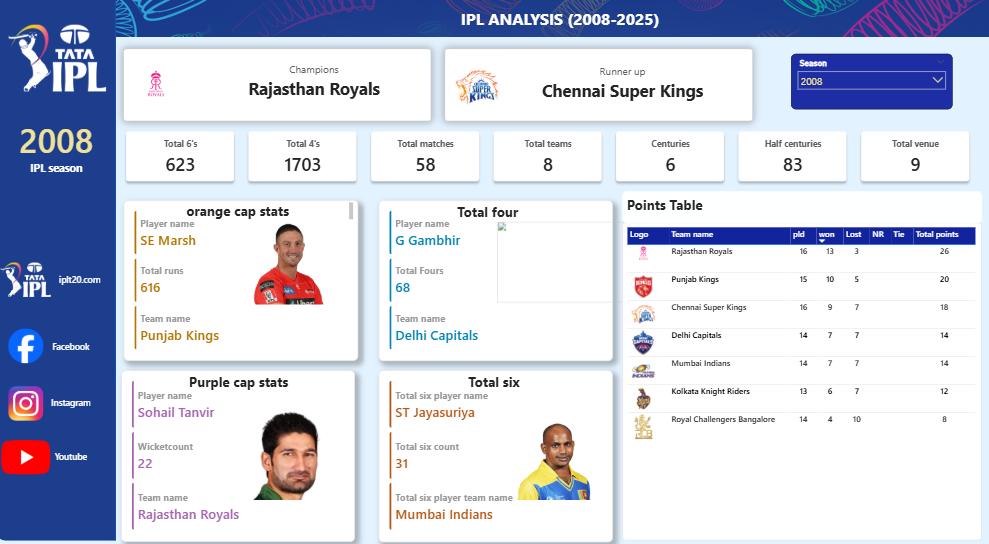

The page's visual inventory and layout, read from the dashboard file:
{"tool":"powerbi","page":{"name":"Page 1","canvas":[1990,1100],"ordinal":0},"visuals":[{"type":"cardVisual","fields":{"Data":["ipl_matches_data.Purple Cap Holder","ipl_matches_data.Purple cap Wicketcount","ipl_matches_data.Purple Cap team"]},"box":[251.2,751.2,468.3,343.9],"z":0},{"type":"image","box":[240.4,0,1746.2,90.4],"z":1000},{"type":"shape","box":[0,5.8,240,1086.5],"z":2000},{"type":"textbox","box":[253.8,19.2,1746.2,71.2],"z":3000},{"type":"slicer","fields":{"Values":["ipl_matches_data.season"]},"box":[1590.4,117.3,323.1,111.5],"z":4000},{"type":"shape","box":[255,107.5,615,145],"z":5000},{"type":"cardVisual","fields":{"Data":["ipl_matches_data.Season winner"]},"box":[374.2,90.3,522.6,162.9],"z":6000},{"type":"cardVisual","fields":{"Data":["ipl_matches_data.Season winner logo"]},"box":[254.8,74.2,130.6,203.2],"z":7000},{"type":"shape","box":[896.8,108.1,616.1,145.2],"z":8000},{"type":"cardVisual","fields":{"Data":["ipl_matches_data.Runner up"]},"box":[1000,96.8,506.5,156.5],"z":9000},{"type":"cardVisual","fields":{"Data":["ipl_matches_data.Runner up logo"]},"box":[896.8,90.3,130.6,187.1],"z":10000},{"type":"cardVisual","fields":{"Data":["ipl_matches_data.Total 6's","ipl_matches_data.Total 4's","ipl_matches_data.Total matches","ipl_matches_data.total venue","ipl_matches_data.Centuries","ipl_matches_data.Half centuries","ipl_matches_data.Total venue"]},"box":[240,253.3,1731.1,140],"z":11000},{"type":"cardVisual","fields":{"Data":["ipl_matches_data.Orange Cap Holder","ipl_matches_data.Orange cap runs","ipl_matches_data.Orange cap team"]},"box":[254.3,410.9,469.6,321.7],"z":12000},{"type":"textbox","box":[255.6,411.1,464.4,44.4],"z":13000},{"type":"cardVisual","fields":{"Data":["ipl_matches_data.Orange cap image"]},"box":[431.1,264.4,333.3,371.1],"z":14000},{"type":"cardVisual","fields":{"Data":["ipl_matches_data.Total Fours player name","ipl_matches_data.Total Fours count","ipl_matches_data.Total four player team name"]},"box":[764.4,411.1,468.9,322.2],"z":15000},{"type":"cardVisual","fields":{"Data":["ipl_matches_data.Total six player name","ipl_matches_data.Total six count","ipl_matches_data.Total six player team name"]},"box":[764.4,751.1,468.9,344.4],"z":16000},{"type":"cardVisual","fields":{"Data":["ipl_matches_data.Total Fours player image"]},"box":[984.4,275.6,335.6,357.8],"z":17000},{"type":"textbox","box":[842.2,411.1,282.2,57.8],"z":18000},{"type":"cardVisual","fields":{"Data":["ipl_matches_data.Total six player image"]},"box":[946.7,668.9,335.6,357.8],"z":19000},{"type":"textbox","box":[744.4,751.1,502.2,55.6],"z":20000},{"type":"tableEx","fields":{"Values":["teams_data.image_url","teams_data.team_name","ipl_matches_data.Matches played","ipl_matches_data.Matches won","ipl_matches_data.Matches lost","ipl_matches_data.No result match","ipl_matches_data.Tie played","ipl_matches_data.Total points"]},"box":[1252.4,454.8,719,635.7],"z":21000},{"type":"textbox","box":[1252.4,392.9,719,64.3],"z":22000},{"type":"image","box":[23.8,21.4,195.2,207.1],"z":23000},{"type":"card","fields":{"Values":["ipl_matches_data.IPL season"]},"box":[11.9,209.5,216.7,183.3],"z":24000},{"type":"actionButton","box":[61.9,538.1,209.5,64.3],"z":25000},{"type":"image","box":[0,535.7,119,69],"z":26000},{"type":"actionButton","box":[45.2,783.3,209.5,64.3],"z":27000},{"type":"actionButton","box":[45.2,669,209.5,64.3],"z":28000},{"type":"actionButton","box":[45.2,890.5,209.5,64.3],"z":29000},{"type":"image","box":[0,666.7,119,69],"z":30000},{"type":"image","box":[0,783.3,119,69],"z":31000},{"type":"image","box":[0,890.5,119,69],"z":32000},{"type":"cardVisual","fields":{"Data":["ipl_matches_data.Purple Capimage"]},"box":[431.7,634.1,312.2,392.7],"z":33000},{"type":"textbox","box":[297.6,748.8,375.6,58.5],"z":34000}]}

Visuals, with their boxes in screenshot pixels (x1, y1, x2, y2), scaled from the page's 1990x1100 canvas onto the 989x544 screenshot:
cardVisual - ipl_matches_data.Purple Cap Holder x ipl_matches_data.Purple cap Wicketcount: left=125, top=372, right=358, bottom=542
image: left=119, top=0, right=987, bottom=45
shape: left=0, top=3, right=119, bottom=540
textbox: left=126, top=9, right=988, bottom=45
slicer - ipl_matches_data.season: left=790, top=58, right=951, bottom=113
shape: left=127, top=53, right=432, bottom=125
cardVisual - ipl_matches_data.Season winner: left=186, top=45, right=446, bottom=125
cardVisual - ipl_matches_data.Season winner logo: left=127, top=37, right=192, bottom=137
shape: left=446, top=53, right=752, bottom=125
cardVisual - ipl_matches_data.Runner up: left=497, top=48, right=749, bottom=125
cardVisual - ipl_matches_data.Runner up logo: left=446, top=45, right=511, bottom=137
cardVisual - ipl_matches_data.Total 6's x ipl_matches_data.Total 4's: left=119, top=125, right=980, bottom=195
cardVisual - ipl_matches_data.Orange Cap Holder x ipl_matches_data.Orange cap runs: left=126, top=203, right=360, bottom=362
textbox: left=127, top=203, right=358, bottom=225
cardVisual - ipl_matches_data.Orange cap image: left=214, top=131, right=380, bottom=314
cardVisual - ipl_matches_data.Total Fours player name x ipl_matches_data.Total Fours count: left=380, top=203, right=613, bottom=363
cardVisual - ipl_matches_data.Total six player name x ipl_matches_data.Total six count: left=380, top=371, right=613, bottom=542
cardVisual - ipl_matches_data.Total Fours player image: left=489, top=136, right=656, bottom=313
textbox: left=419, top=203, right=559, bottom=232
cardVisual - ipl_matches_data.Total six player image: left=470, top=331, right=637, bottom=508
textbox: left=370, top=371, right=620, bottom=399
tableEx - teams_data.image_url x teams_data.team_name: left=622, top=225, right=980, bottom=539
textbox: left=622, top=194, right=980, bottom=226
image: left=12, top=11, right=109, bottom=113
card - ipl_matches_data.IPL season: left=6, top=104, right=114, bottom=194
actionButton: left=31, top=266, right=135, bottom=298
image: left=0, top=265, right=59, bottom=299
actionButton: left=22, top=387, right=127, bottom=419
actionButton: left=22, top=331, right=127, bottom=363
actionButton: left=22, top=440, right=127, bottom=472
image: left=0, top=330, right=59, bottom=364
image: left=0, top=387, right=59, bottom=422
image: left=0, top=440, right=59, bottom=475
cardVisual - ipl_matches_data.Purple Capimage: left=215, top=314, right=370, bottom=508
textbox: left=148, top=370, right=335, bottom=399
